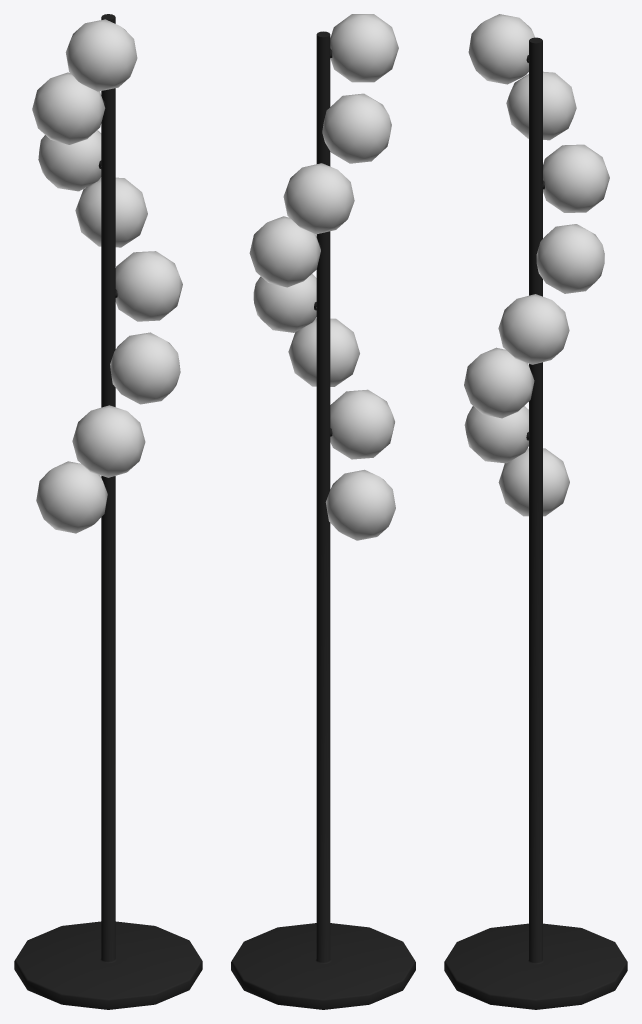
File: Lights_Floor_Lamps_2.fbx
3 views of the same model, side by side, from view 1: azimuth 30°, elevation 25°; view 2: azimuth 150°, elevation 25°; view 3: azimuth 270°, elevation 25° (orthographic). The views are drawn at different scales.
Parts seen in each view (by area): view 1: Cylinder.036; view 2: Cylinder.036; view 3: Cylinder.036.
Part boxes in pixels (<box>): Cylinder.036: <box>14,14,202,1009</box>; Cylinder.036: <box>231,14,415,1009</box>; Cylinder.036: <box>444,14,627,1009</box>.
Size of the model in its own units: 33.84 by 192 by 33.84.
